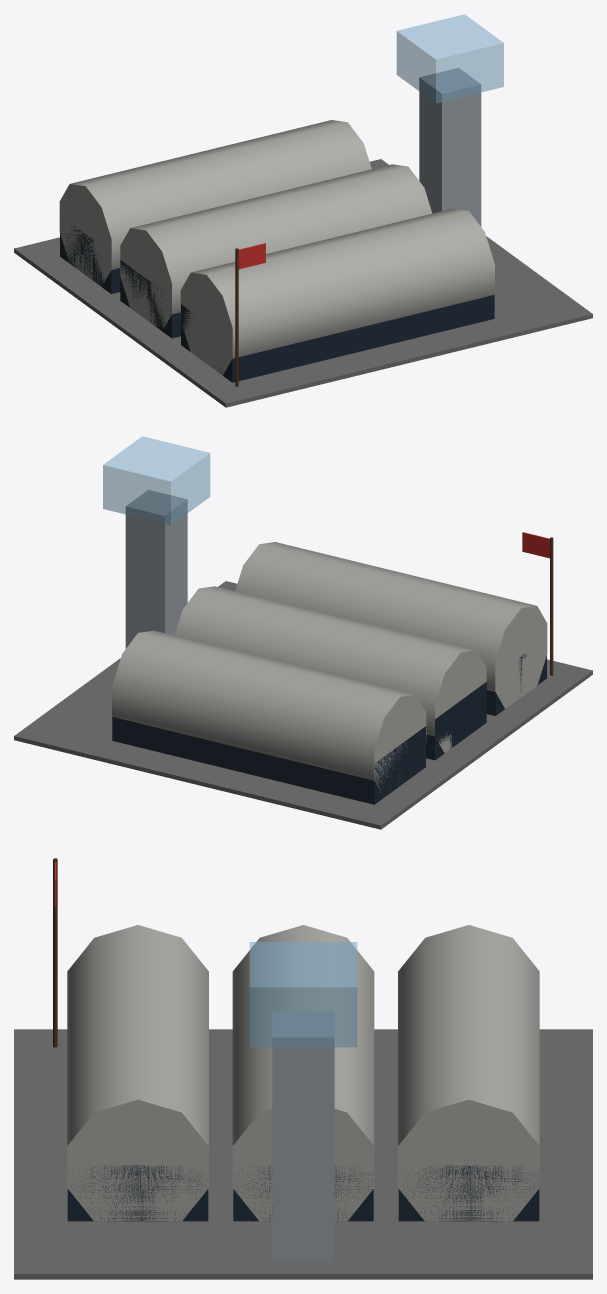
The model's file is bld_special_barracks_a07.glb.
The picture shows the model from 3 angles, top to bottom: view 1: azimuth 30°, elevation 25°; view 2: azimuth 150°, elevation 25°; view 3: azimuth 270°, elevation 25°; orthographic projection. The views are drawn at different scales.
Visible parts, largest first — view 1: body; view 2: body; view 3: body.
Part boxes in pixels (left/top/right/bottom): body: left=14, top=14, right=592, bottom=407; body: left=14, top=436, right=592, bottom=829; body: left=14, top=858, right=592, bottom=1279.
Size of what is drawn, in the model's own units: 14 by 7.95 by 14.
